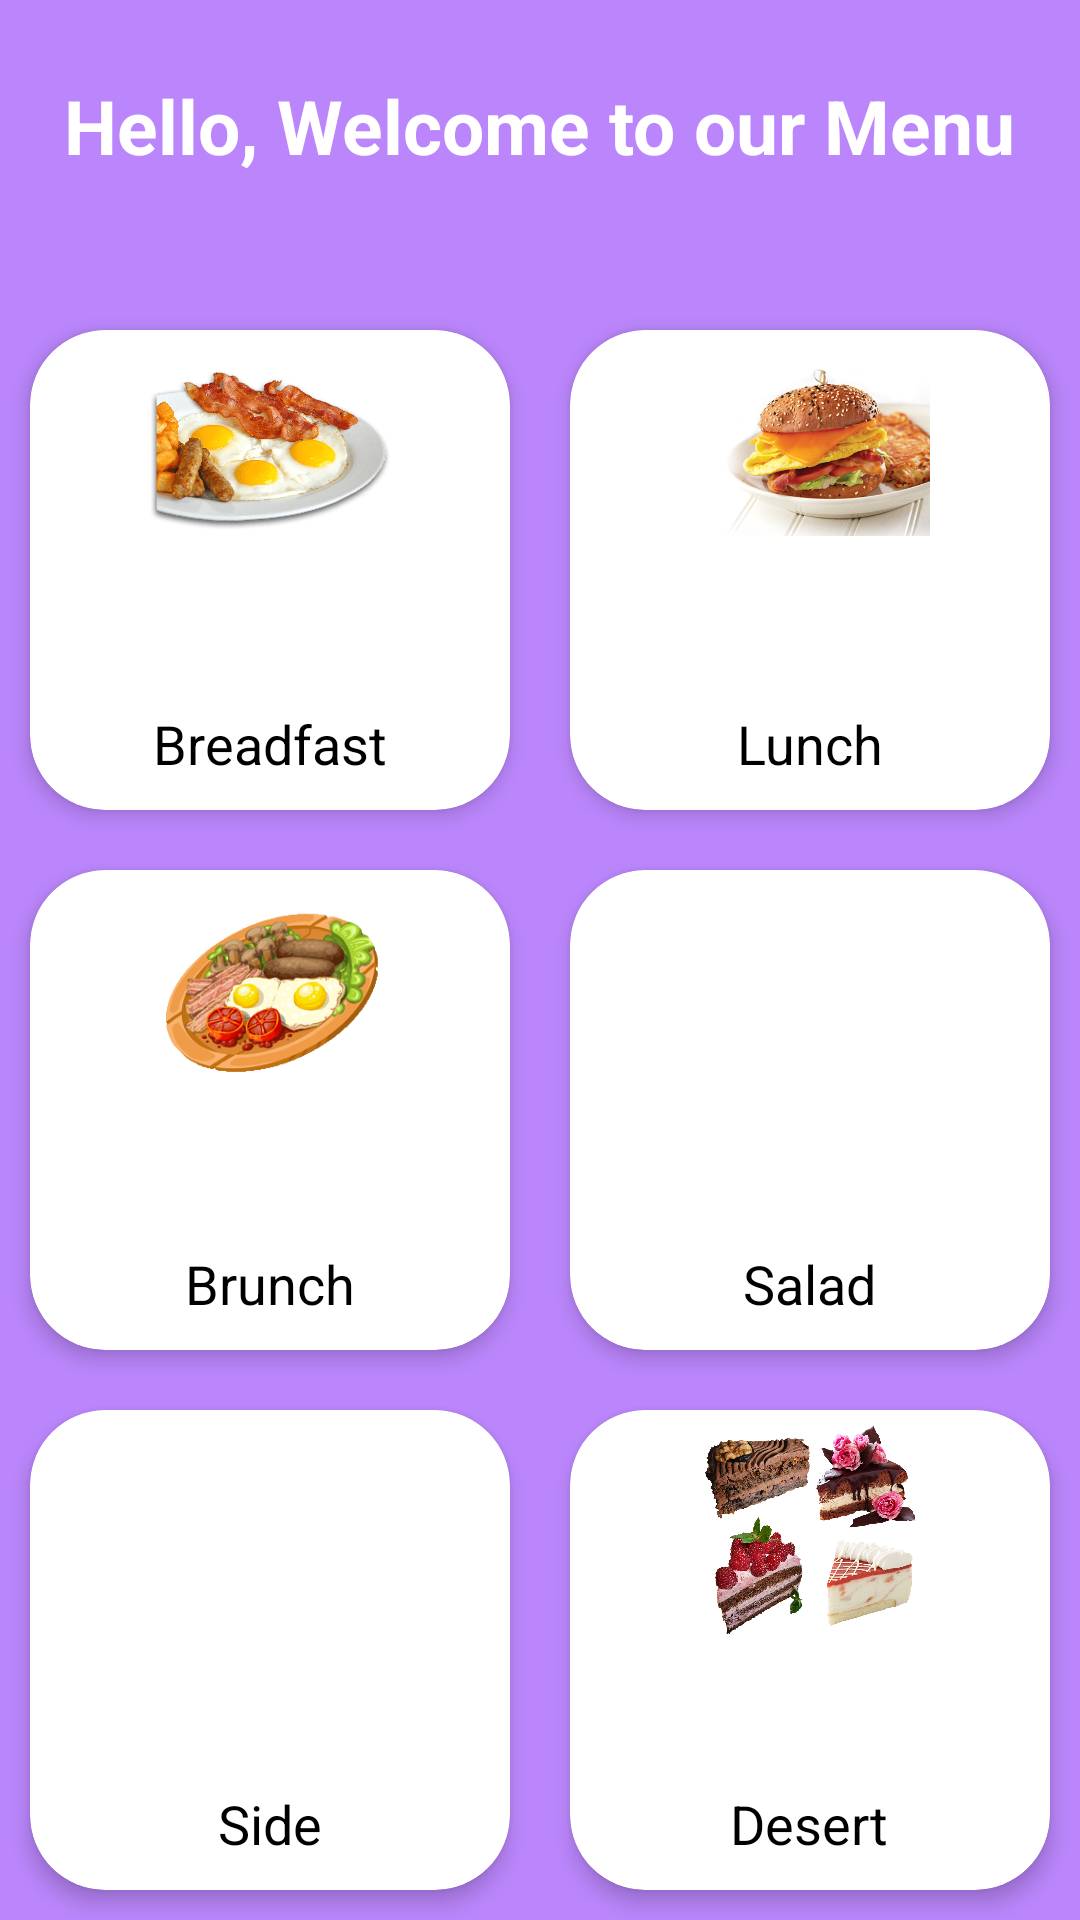

Where icons sit on this 1080 x 1920 app screen, as (x1, y1, x2, y2):
breakfast: (153, 372, 387, 527)
